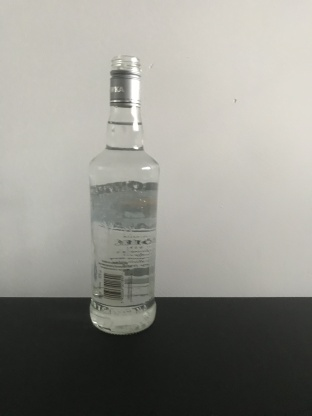nakretka: (108, 53, 143, 108)
